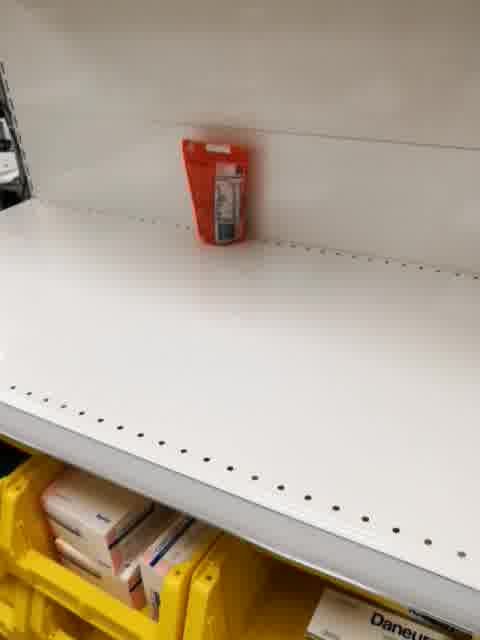whitechia: (179, 135, 251, 249)
